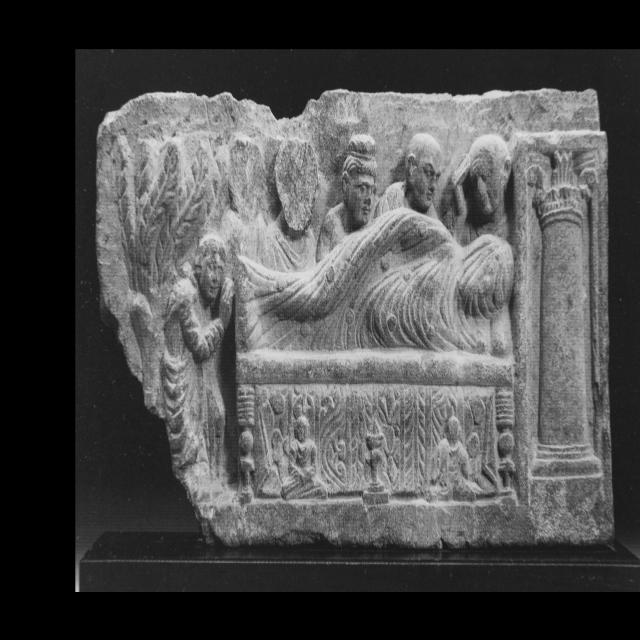buddha-sleeping: (237, 206, 518, 528)
